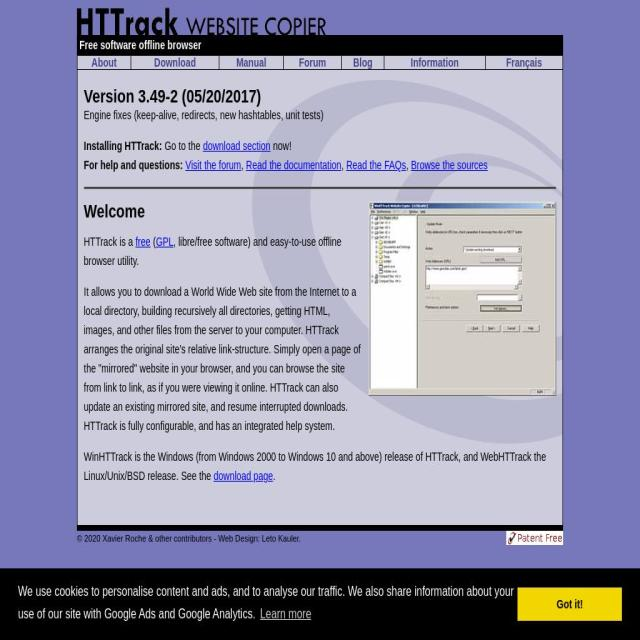button: (518, 587, 622, 621), (258, 601, 314, 627)
heading: (84, 86, 556, 105), (84, 202, 556, 220)
image: (369, 202, 556, 396), (77, 7, 327, 35), (506, 531, 563, 545)
link: (246, 158, 341, 172), (411, 158, 488, 172), (202, 139, 270, 153), (346, 158, 406, 172), (213, 469, 273, 483), (185, 158, 241, 172), (411, 56, 458, 69), (154, 56, 196, 69), (506, 56, 542, 69), (236, 56, 266, 69), (299, 56, 327, 69), (352, 56, 372, 69), (156, 235, 173, 248), (135, 235, 151, 248)
text: (84, 282, 556, 436), (18, 583, 514, 621), (84, 450, 546, 482), (77, 35, 563, 55), (84, 235, 342, 267), (84, 108, 324, 122), (77, 532, 301, 544), (84, 158, 183, 172), (84, 139, 162, 153), (78, 56, 130, 69), (84, 235, 136, 248), (162, 139, 204, 153), (270, 139, 291, 153), (341, 158, 347, 172), (150, 235, 156, 248), (241, 158, 246, 172), (406, 158, 410, 172), (272, 469, 276, 483)
